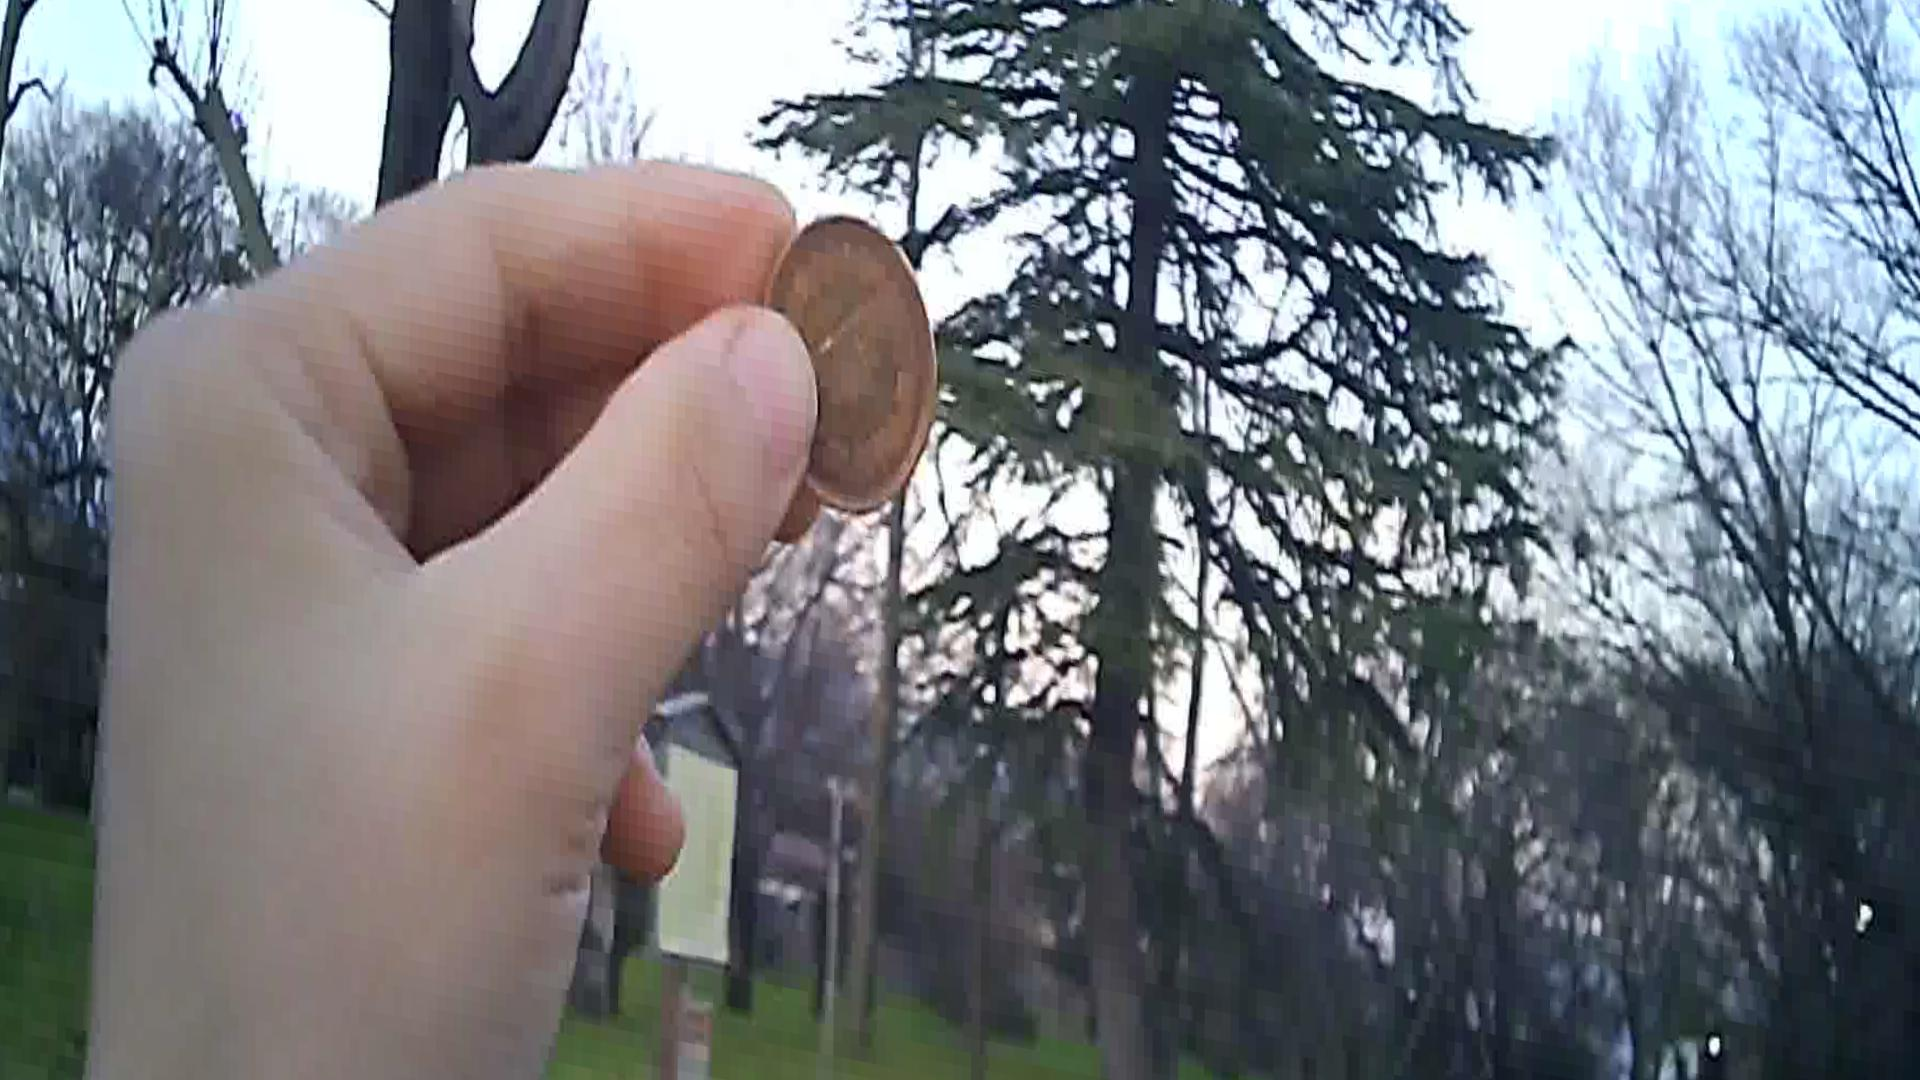10 Yen: (760, 207, 938, 506)
